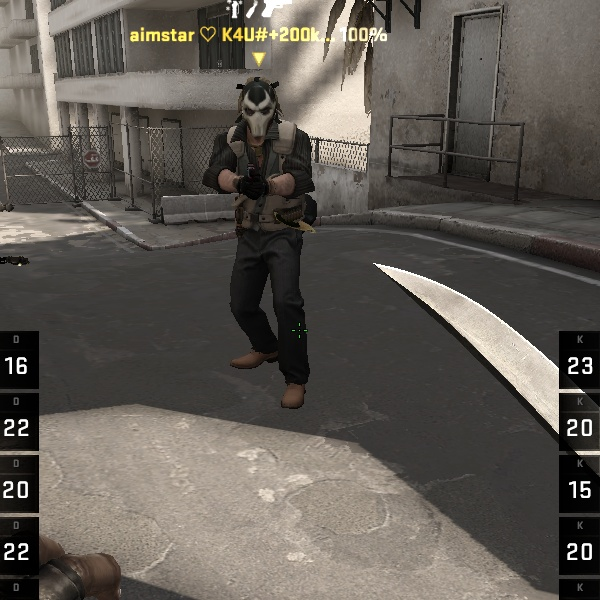t_body: (186, 68, 339, 407)
t_head: (224, 74, 293, 146)
